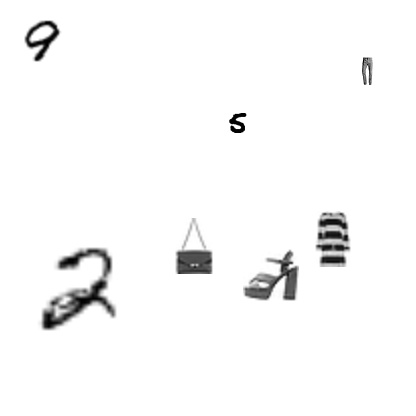2: (23, 233, 135, 345)
5: (223, 109, 251, 137)
9: (13, 9, 69, 65)
Bag: (166, 218, 222, 274)
Dress: (304, 211, 360, 267)
Sandal: (243, 246, 299, 302)
Trouser: (353, 57, 381, 85)
